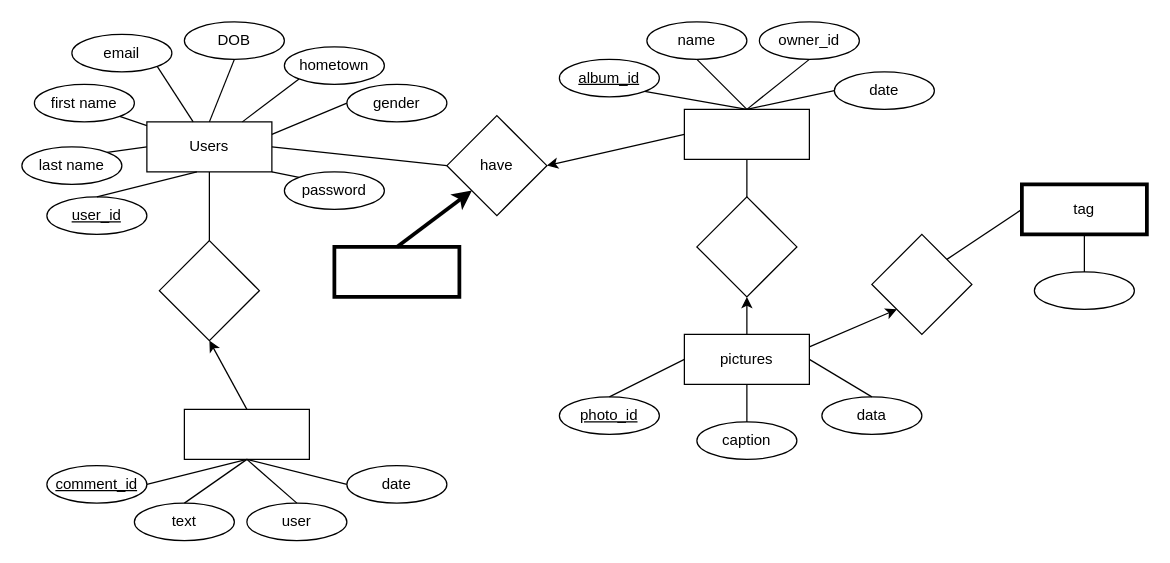
This 1170x563 diagram has some shape labels left out. Each missing label, with the centre of its shape:
"albums" goes at (746,133).
"associated" goes at (921,283).
"comments" goes at (246,433).
"contain" goes at (746,246).
"friends" goes at (396,271).
"single word" goes at (1083,290).
"wrote" goes at (208,290).
